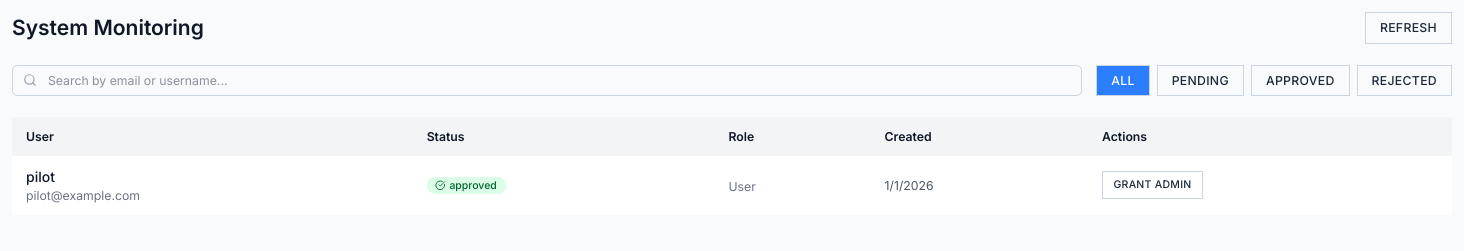
Test: MonitoringPanel › shows the filtered-empty message when search excludes all rows
Check: the text "pilot@example.com" is shown, box 26,188 -> 140,203
Type "missing-user" into the field with placeholder "Search by email or username...".
click(547, 80); type("missing-user")  # box 12,64 -> 1082,96
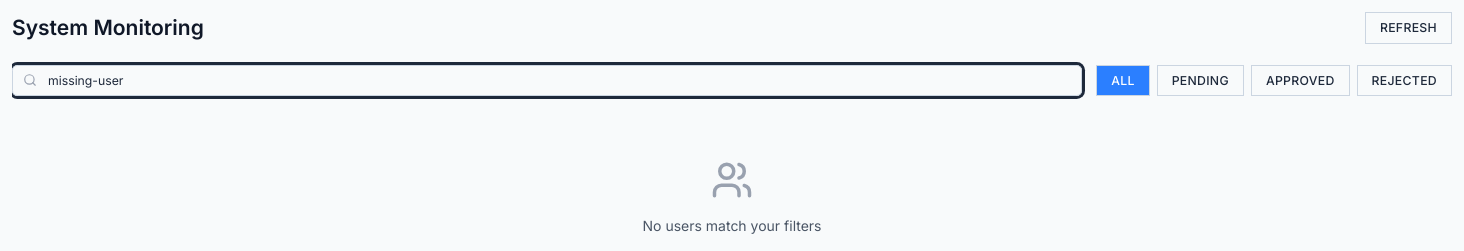
Check: the text "No users match your filters" is shown, box 642,217 -> 822,234
